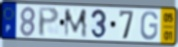3: (89, 8, 109, 40)
7: (118, 9, 136, 41)
8: (20, 6, 37, 38)
G: (140, 11, 159, 42)
M: (63, 8, 89, 39)
P: (37, 6, 61, 38)
